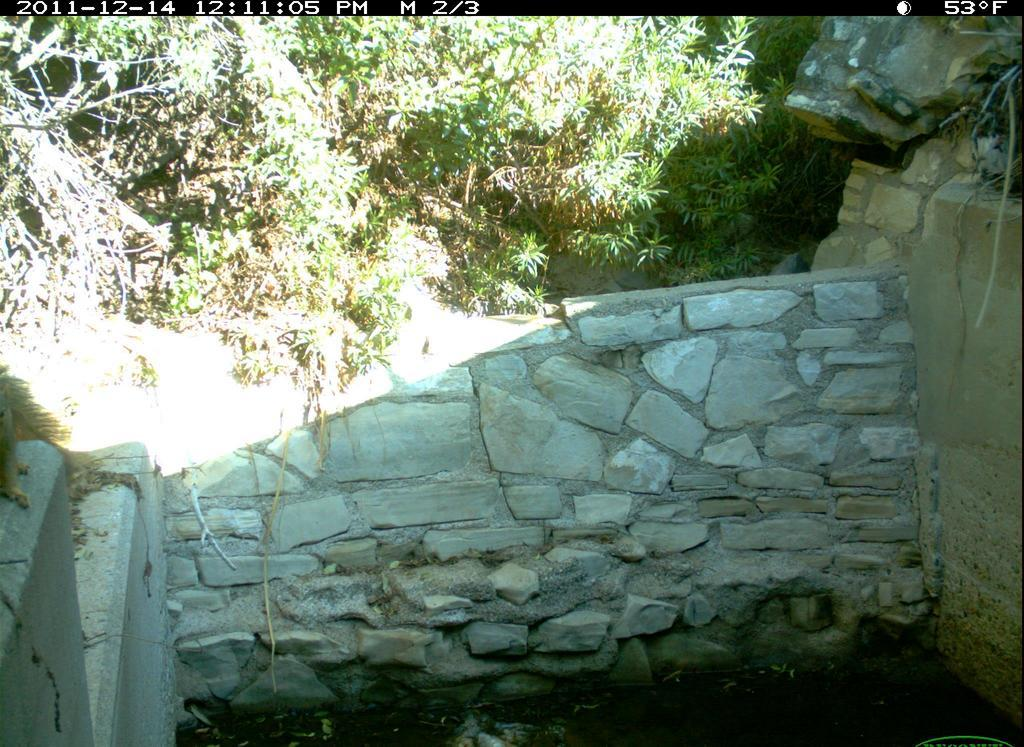squirrel: (2, 364, 75, 523)
